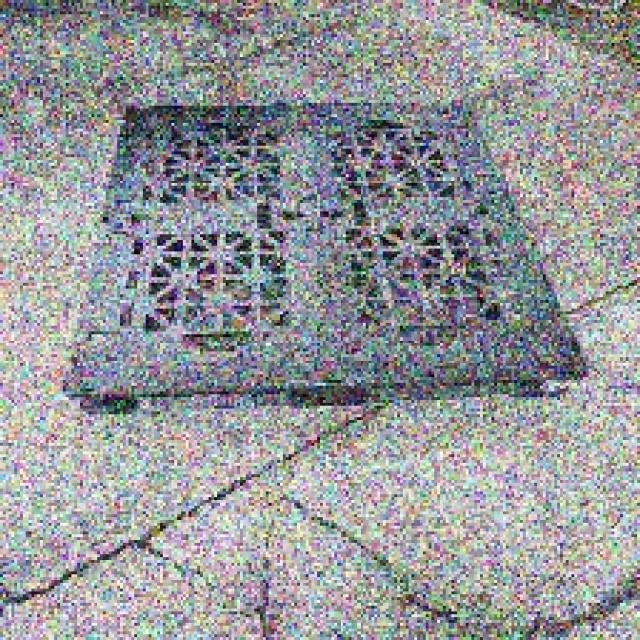igps: (52, 92, 596, 425)
